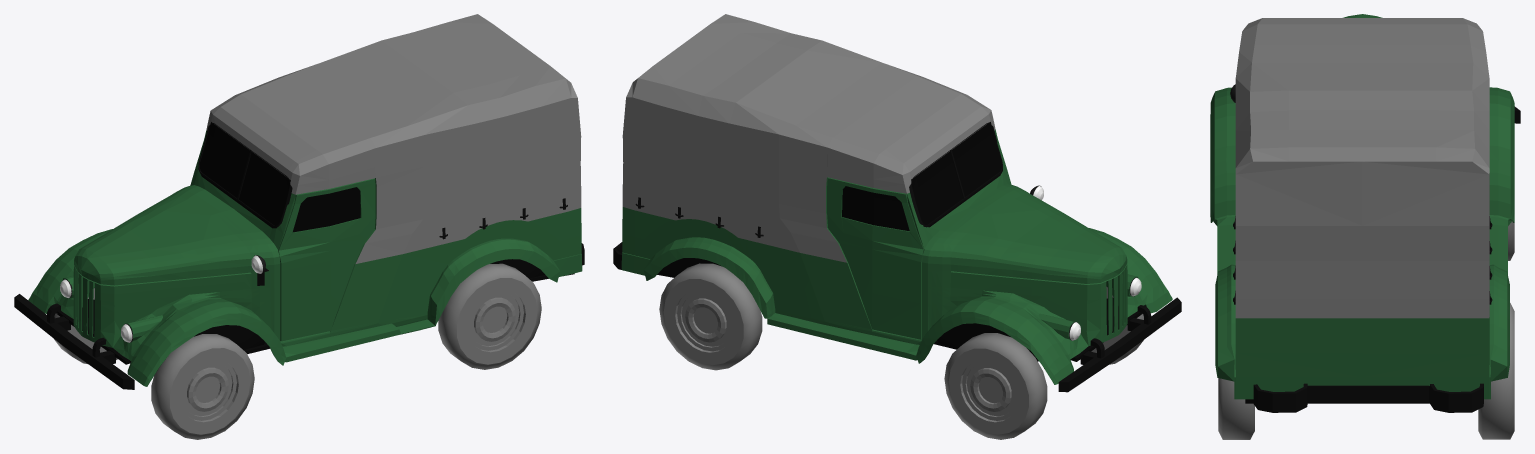
3 views of the same model, side by side, from view 1: azimuth 30°, elevation 25°; view 2: azimuth 150°, elevation 25°; view 3: azimuth 270°, elevation 25° (orthographic). The views are drawn at different scales.
Parts seen in each view (by area): view 1: Plane001, Cylinder001, Cylinder002, Box003, car, Shape001, Box002; view 2: Plane001, Cylinder003, Cylinder004, Box003, car, Shape001; view 3: Plane001, Line001, Cylinder004, Cylinder002.
Part boxes in pixels (<box>): Plane001: <box>28,14,582,386</box>; Cylinder001: <box>151,334,254,439</box>; Cylinder002: <box>438,263,541,369</box>; Box003: <box>14,294,134,389</box>; car: <box>55,198,567,349</box>; Shape001: <box>198,123,292,227</box>; Box002: <box>57,273,574,364</box>; Plane001: <box>621,14,1172,384</box>; Cylinder003: <box>944,333,1047,439</box>; Cylinder004: <box>659,263,762,370</box>; Box003: <box>1058,297,1181,392</box>; car: <box>635,197,1145,359</box>; Shape001: <box>909,122,1002,227</box>; Plane001: <box>1210,14,1514,399</box>; Line001: <box>1253,383,1483,412</box>; Cylinder004: <box>1478,303,1514,439</box>; Cylinder002: <box>1218,378,1254,439</box>.
Bounding box in the file's own units: 1486 × 783 × 654.
